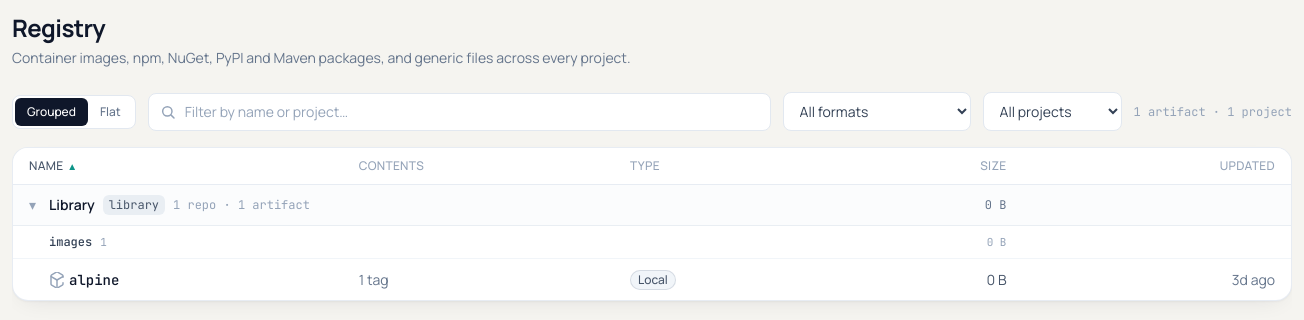
Scenario: RegistryPage › switches to a flat table that carries the project on each row
The width and height of the screenshot is (1304, 320).
expect the link "alpine" is shown: met, box [69,270,119,290]
Click the button "flat" at (110, 112), box [88,98,133,126]
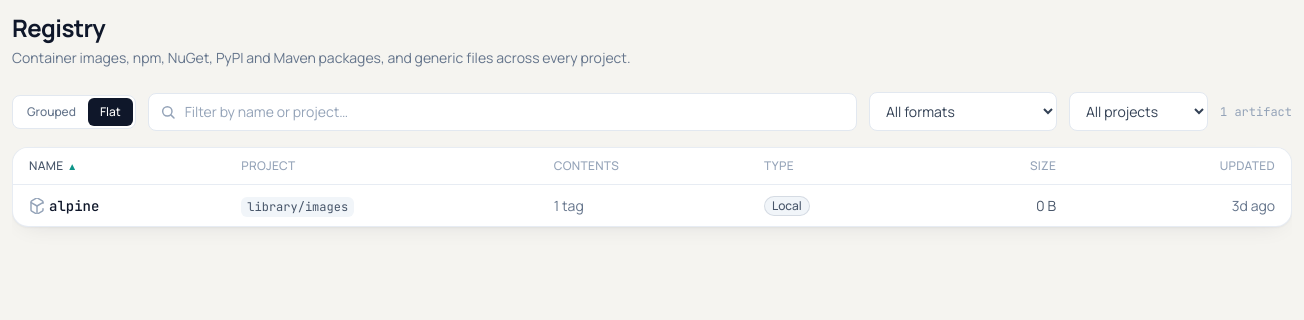
expect the text "1 artifact" is shown: met, box [1220,104,1292,120]
expect the text "library/images" is shown: met, box [241,196,354,216]
